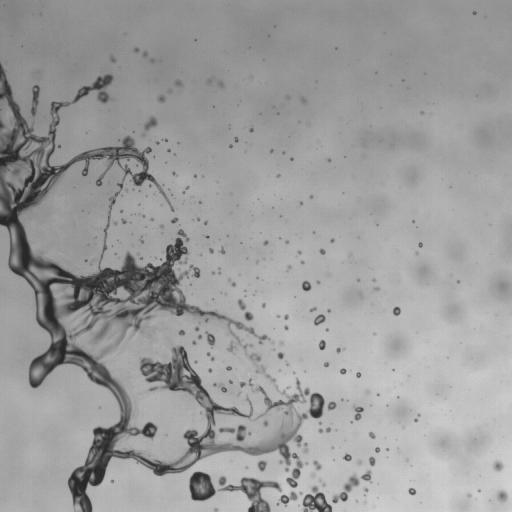droplet: (301, 485, 332, 511), (144, 116, 157, 131), (205, 331, 215, 348), (213, 382, 227, 392), (353, 406, 363, 420), (314, 314, 325, 325), (497, 490, 508, 501), (301, 280, 311, 291), (257, 460, 267, 471), (493, 460, 503, 471), (237, 299, 246, 310), (244, 311, 253, 321), (313, 460, 321, 470), (393, 306, 401, 315), (343, 453, 351, 461), (318, 340, 325, 349), (157, 95, 165, 102), (177, 329, 185, 336), (369, 457, 375, 466), (175, 79, 182, 86), (228, 279, 235, 286), (110, 55, 116, 62), (171, 217, 178, 223), (219, 247, 225, 254), (277, 352, 283, 359), (368, 432, 375, 438), (409, 488, 415, 495), (340, 368, 346, 374), (218, 80, 223, 87), (336, 347, 343, 352), (142, 51, 147, 57), (320, 248, 325, 254), (263, 240, 268, 245), (356, 372, 361, 377), (325, 427, 330, 432), (318, 428, 323, 433), (301, 97, 305, 103), (134, 48, 139, 52), (121, 218, 125, 223), (418, 242, 422, 247), (209, 248, 213, 253), (374, 287, 379, 291), (310, 307, 315, 311), (284, 314, 288, 319), (284, 325, 288, 330), (195, 326, 199, 331), (324, 362, 329, 366), (226, 366, 231, 370), (375, 447, 379, 452), (357, 460, 361, 465), (311, 472, 315, 477), (363, 488, 368, 492), (249, 128, 253, 132), (330, 238, 334, 242), (297, 250, 301, 254), (287, 265, 291, 269), (279, 341, 283, 345), (208, 368, 212, 372), (234, 138, 238, 141), (172, 172, 176, 175), (113, 221, 117, 224), (316, 280, 319, 284), (262, 303, 265, 307), (228, 380, 232, 383), (150, 59, 153, 62), (208, 80, 211, 83), (156, 141, 159, 144), (270, 149, 273, 152), (327, 158, 330, 161), (204, 221, 207, 224), (160, 224, 163, 227), (90, 261, 93, 264), (359, 294, 362, 297), (285, 362, 288, 365), (366, 390, 369, 393), (322, 483, 325, 486), (214, 508, 217, 511), (140, 238, 142, 242), (473, 11, 475, 14), (421, 111, 423, 114), (229, 145, 232, 147), (290, 158, 293, 160), (277, 174, 279, 177), (186, 186, 188, 189), (310, 195, 312, 198), (300, 202, 302, 205), (142, 215, 145, 217), (206, 235, 208, 238), (286, 240, 288, 243), (326, 328, 328, 331), (318, 422, 321, 424), (478, 489, 480, 492), (468, 494, 470, 497), (169, 90, 171, 92), (287, 96, 289, 98), (143, 134, 145, 136), (194, 175, 196, 177), (183, 190, 185, 192), (199, 201, 201, 203), (196, 218, 198, 220), (416, 252, 418, 254), (349, 254, 351, 256), (139, 257, 141, 259), (301, 261, 303, 263), (218, 270, 220, 272), (357, 279, 359, 281), (373, 279, 375, 281), (328, 309, 330, 311), (373, 333, 375, 335), (195, 360, 197, 362), (238, 393, 240, 395)
ligament: (0, 62, 336, 511), (189, 471, 282, 511), (332, 470, 371, 503), (277, 491, 302, 506), (30, 85, 39, 116), (191, 334, 202, 345), (206, 352, 214, 361), (414, 414, 420, 421)
